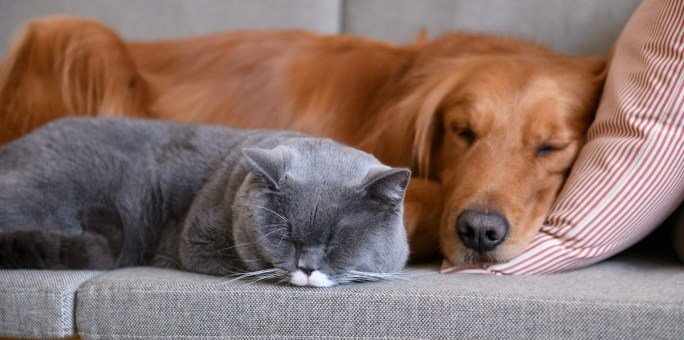cat: (12, 118, 413, 291)
dog: (38, 16, 618, 255)
